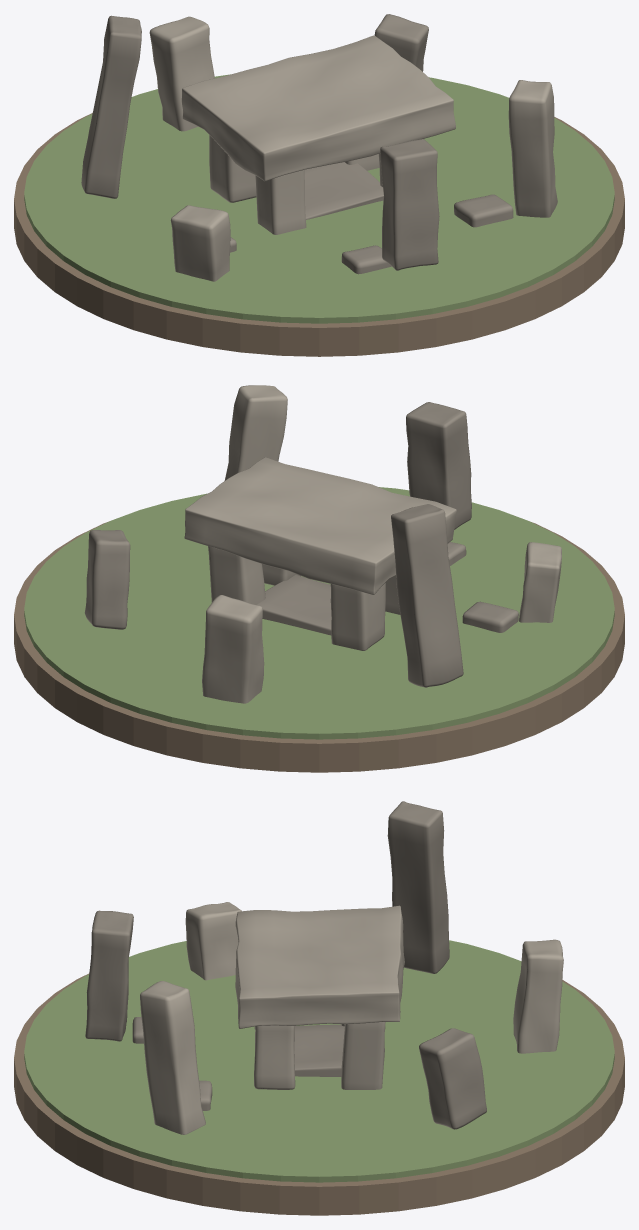
The model's file is halmahera.glb.
3 renders of one model, top to bottom at view 1: azimuth 30°, elevation 25°; view 2: azimuth 150°, elevation 25°; view 3: azimuth 270°, elevation 25°, orthographic.
Visible parts, largest first — view 1: GEO-rumput, GEO-kubur-tutup, GEO-alas, GEO-susunan-batu-4, GEO-susunan-batu-2, GEO-susunan-batu-5, GEO-susunan-batu-1, GEO-susunan-batu-3, GEO-lempeng-tengah, GEO-kubur-kaki-0, GEO-kubur-kaki-2, GEO-susunan-batu-0 (+2 smaller); view 2: GEO-rumput, GEO-alas, GEO-kubur-tutup, GEO-susunan-batu-2, GEO-susunan-batu-4, GEO-susunan-batu-1, GEO-susunan-batu-5, GEO-susunan-batu-0, GEO-lempeng-tengah, GEO-kubur-kaki-2, GEO-susunan-batu-3, GEO-kubur-kaki-3 (+1 smaller); view 3: GEO-rumput, GEO-alas, GEO-kubur-tutup, GEO-susunan-batu-2, GEO-susunan-batu-5, GEO-susunan-batu-4, GEO-susunan-batu-0, GEO-susunan-batu-1, GEO-susunan-batu-3, GEO-kubur-kaki-3, GEO-kubur-kaki-1, GEO-lempeng-tengah.
Part boxes in pixels (<box>): GEO-rumput: <box>24,74,614,323</box>; GEO-kubur-tutup: <box>181,35,455,181</box>; GEO-alas: <box>14,113,624,356</box>; GEO-susunan-batu-4: <box>380,139,439,270</box>; GEO-susunan-batu-2: <box>81,15,141,198</box>; GEO-susunan-batu-5: <box>508,80,557,217</box>; GEO-susunan-batu-1: <box>149,16,214,131</box>; GEO-susunan-batu-3: <box>170,205,230,281</box>; GEO-lempeng-tengah: <box>304,162,383,219</box>; GEO-kubur-kaki-0: <box>255,169,306,234</box>; GEO-kubur-kaki-2: <box>209,135,256,202</box>; GEO-susunan-batu-0: <box>374,14,428,71</box>; GEO-rumput: <box>24,487,614,739</box>; GEO-alas: <box>14,521,624,772</box>; GEO-kubur-tutup: <box>184,457,456,594</box>; GEO-susunan-batu-2: <box>391,504,463,687</box>; GEO-susunan-batu-4: <box>406,402,471,529</box>; GEO-susunan-batu-1: <box>202,595,264,703</box>; GEO-susunan-batu-5: <box>224,385,287,480</box>; GEO-susunan-batu-0: <box>84,530,130,629</box>; GEO-lempeng-tengah: <box>257,574,331,635</box>; GEO-kubur-kaki-2: <box>330,583,385,650</box>; GEO-susunan-batu-3: <box>519,542,561,622</box>; GEO-kubur-kaki-3: <box>208,546,265,604</box>; GEO-rumput: <box>24,940,614,1182</box>; GEO-alas: <box>14,973,624,1215</box>; GEO-kubur-tutup: <box>235,905,404,1028</box>; GEO-susunan-batu-2: <box>387,801,449,973</box>; GEO-susunan-batu-5: <box>140,981,205,1134</box>; GEO-susunan-batu-4: <box>85,910,133,1041</box>; GEO-susunan-batu-0: <box>419,1028,486,1129</box>; GEO-susunan-batu-1: <box>513,939,563,1053</box>; GEO-susunan-batu-3: <box>185,902,241,980</box>; GEO-kubur-kaki-3: <box>341,1022,385,1089</box>; GEO-kubur-kaki-1: <box>254,1025,295,1089</box>; GEO-lempeng-tengah: <box>294,1024,344,1076</box>.
Bounding box in the file's own units: 4.8 × 1.77 × 4.8.
